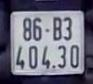0: (28, 45, 39, 70), (70, 45, 80, 68)
3: (63, 17, 73, 41), (57, 44, 67, 68)
4: (15, 45, 25, 69), (41, 45, 51, 69)
6: (33, 17, 43, 41)
8: (23, 17, 32, 42)
B: (51, 16, 62, 41)
